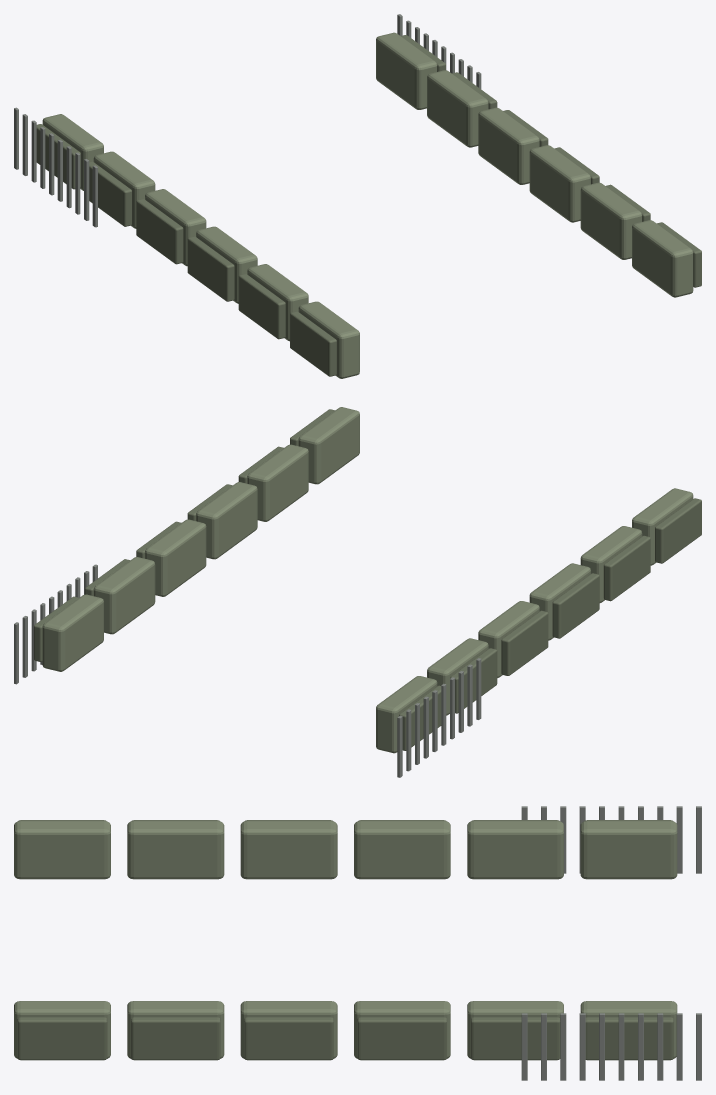
Rendered from armor_2.glb.
3 renders of one model, top to bottom at view 1: azimuth 30°, elevation 25°; view 2: azimuth 150°, elevation 25°; view 3: azimuth 270°, elevation 25°, orthographic. The views are drawn at different scales.
Visible parts, largest first — view 1: armor_2.001; view 2: armor_2.001; view 3: armor_2.001.
Part boxes in pixels (box(x1,y1,x2,y2)): armor_2.001: box(14, 14, 701, 378); armor_2.001: box(14, 407, 701, 777); armor_2.001: box(14, 806, 701, 1080).
Size of the model in its own units: 4.63 by 0.688 by 6.46.
